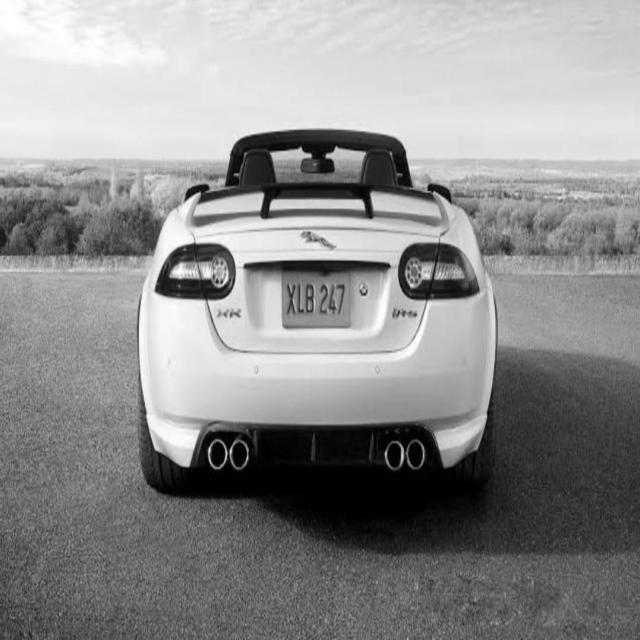license-plate: (121, 112, 536, 564)
